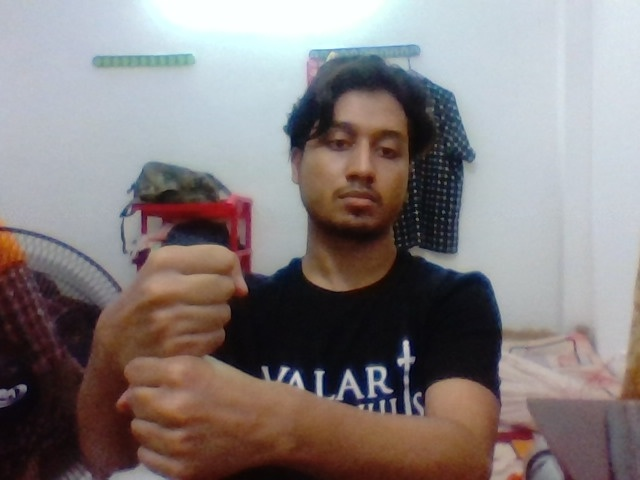G: (114, 228, 256, 480)
